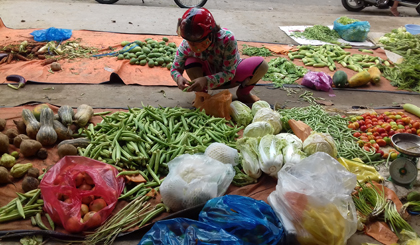plastic bag: (267, 150, 358, 245), (141, 195, 286, 245), (40, 152, 124, 232), (159, 153, 235, 207), (333, 14, 369, 42), (301, 69, 334, 92)
